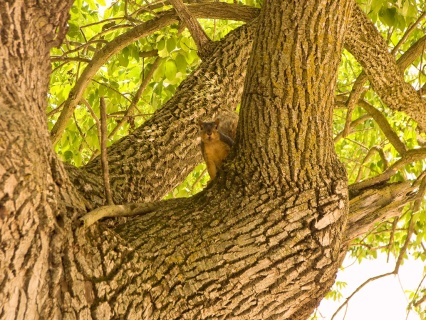Squirrel: (189, 118, 237, 178)
